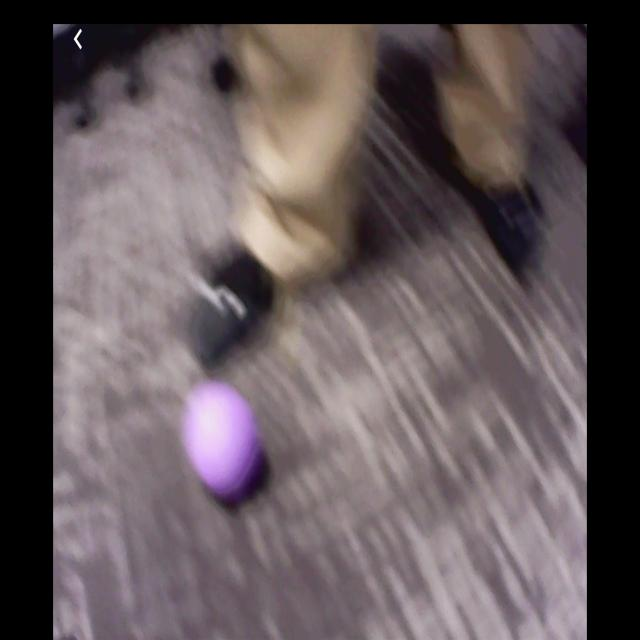ball: (186, 384, 257, 497)
